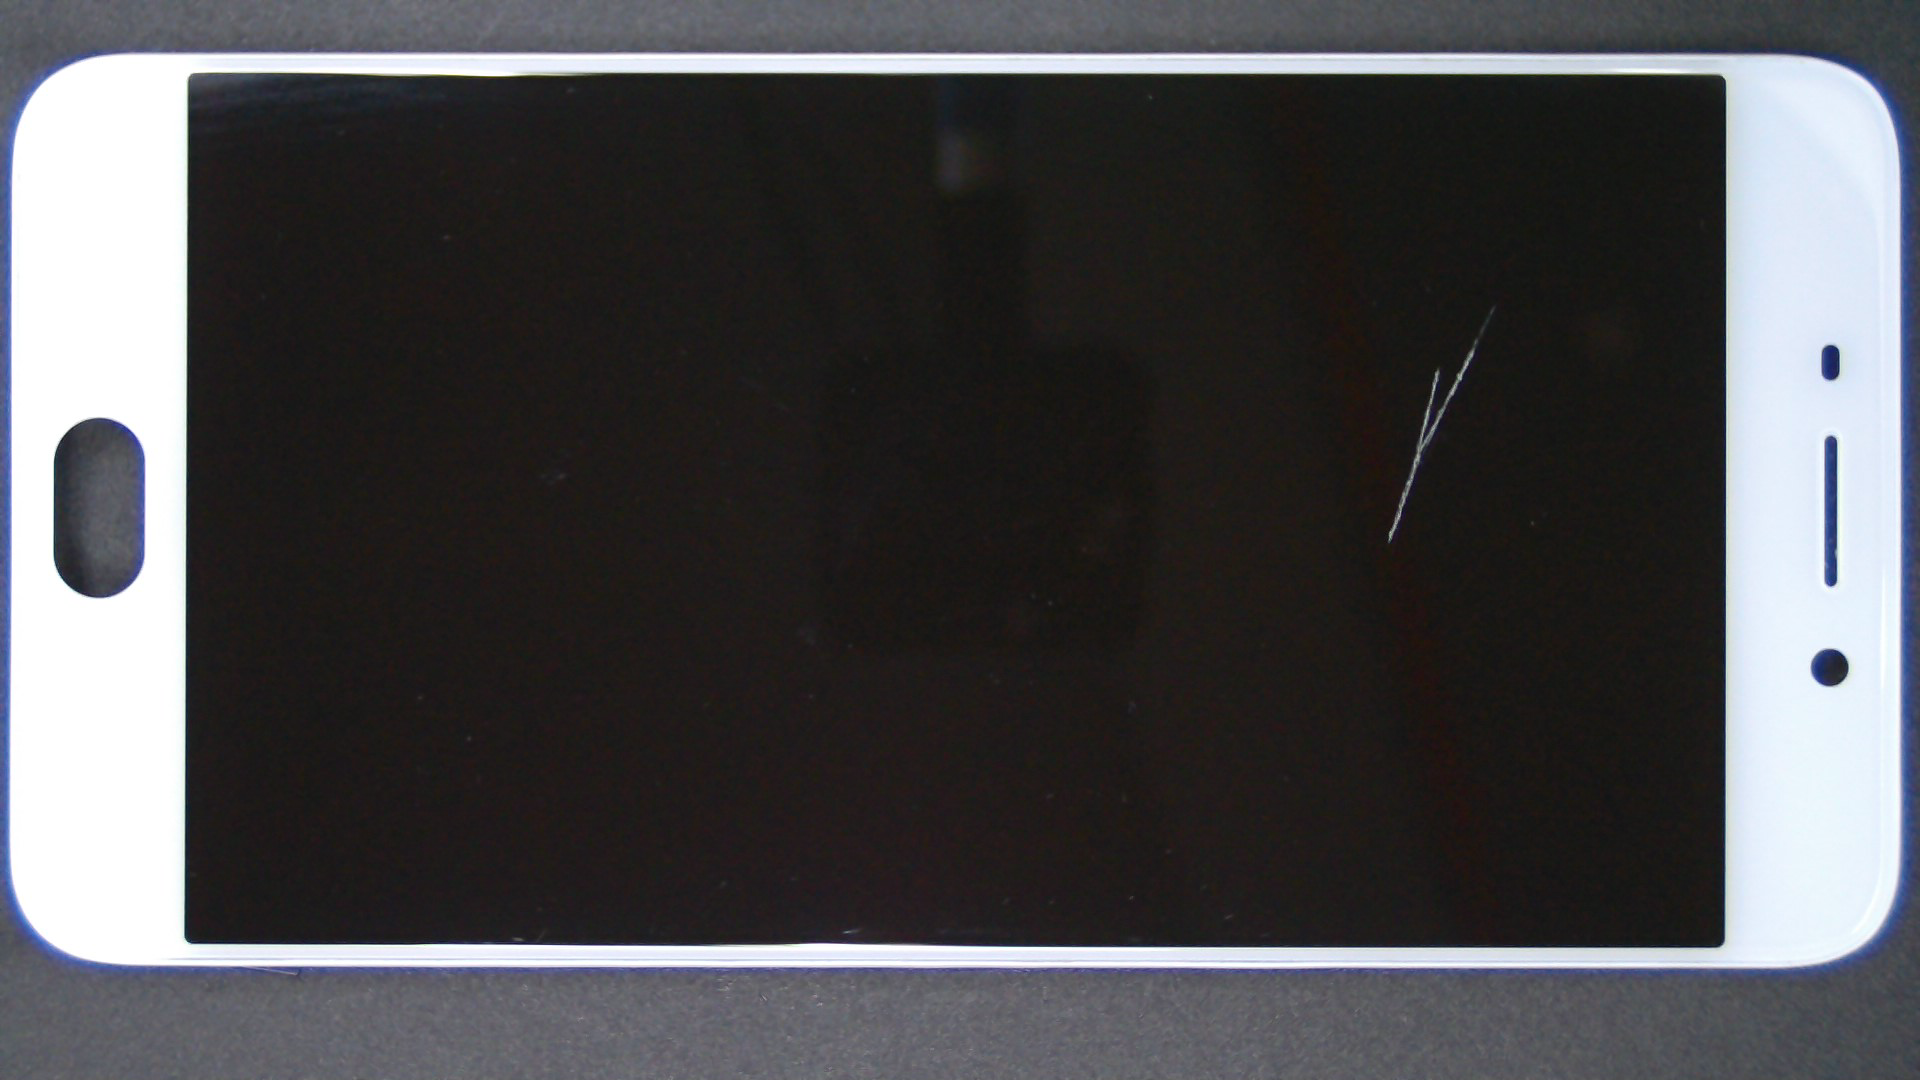defect: (1387, 305, 1495, 543)
